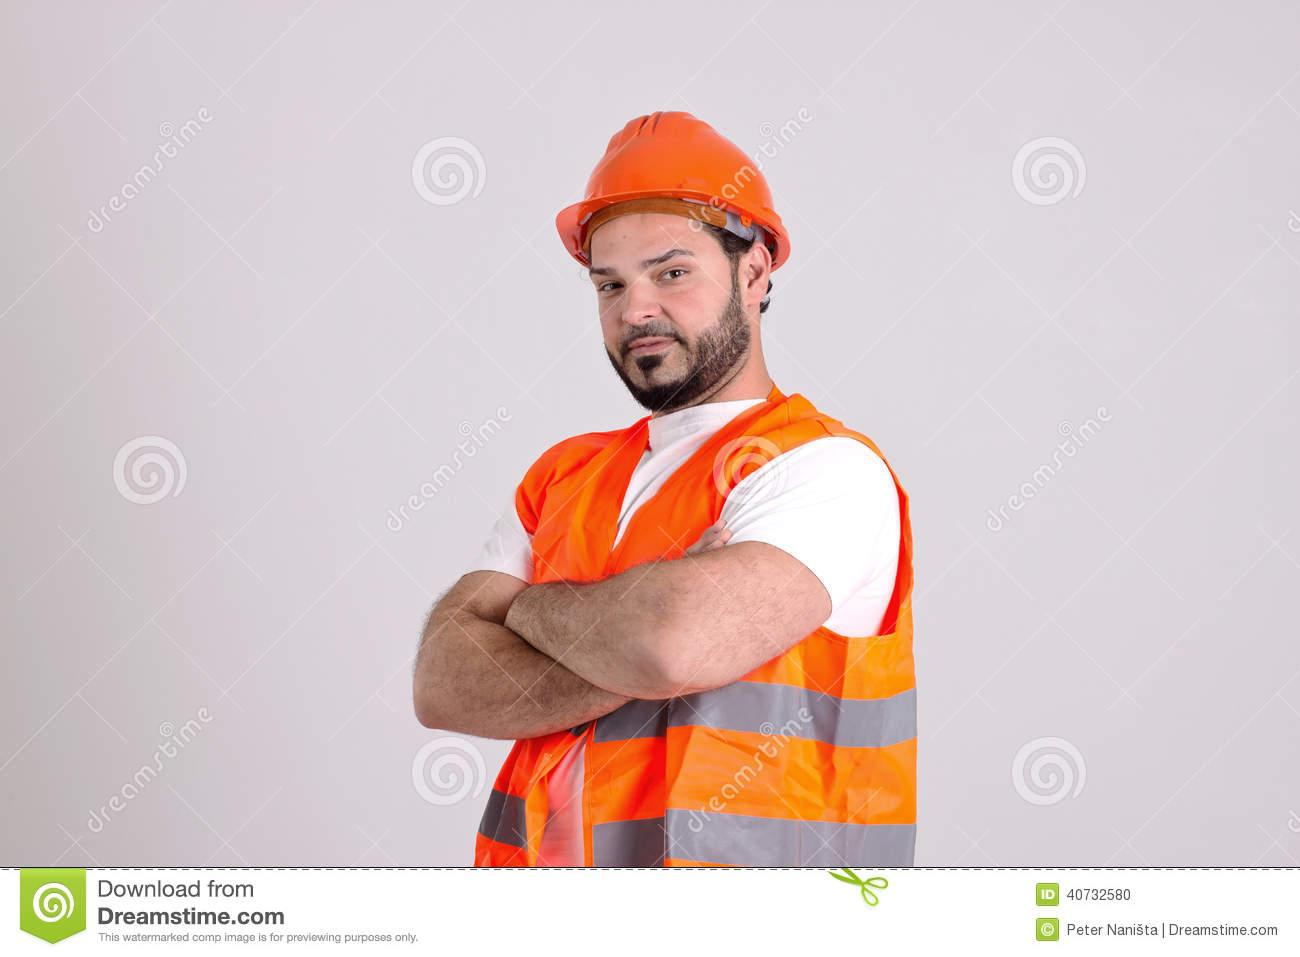helmet: (557, 108, 798, 268)
